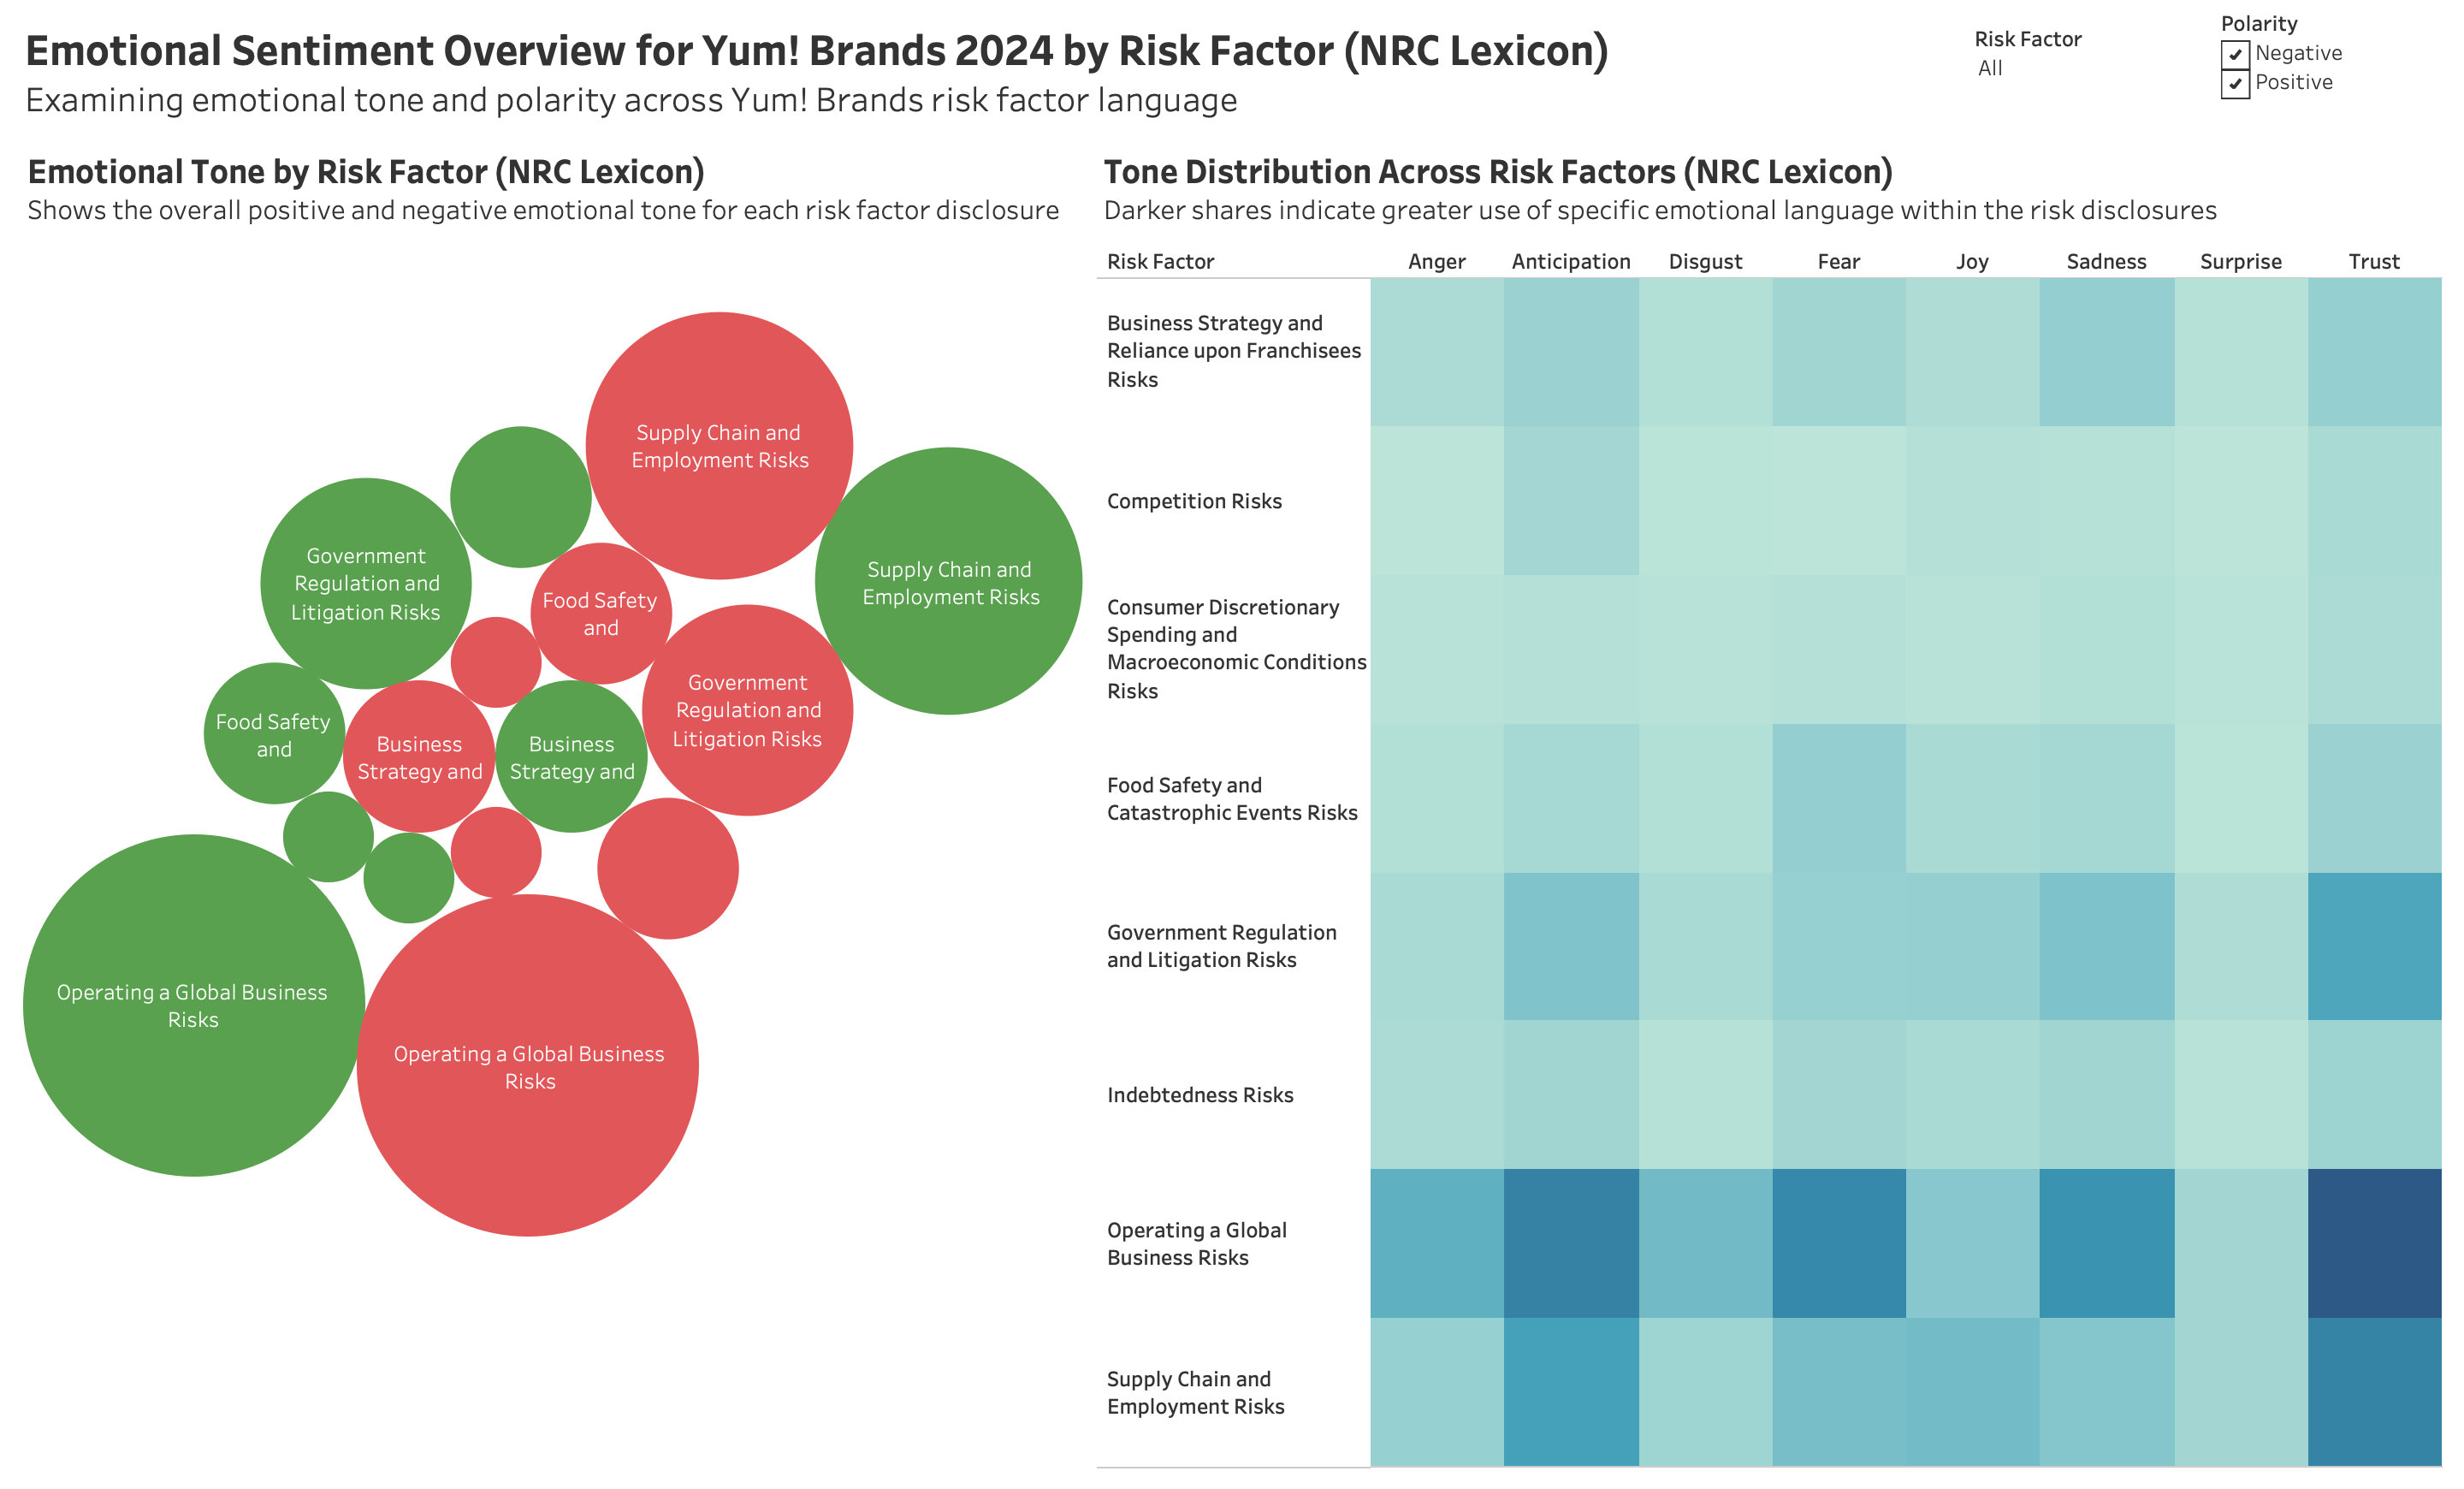

What the dashboard file says about the page in this screenshot:
{"tool":"tableau","page":{"name":"NRC Dashboard","canvas":[1000,1000],"units":"permille","ordinal":1},"visuals":[{"type":"filter","title":"NRC 1","param":"[federated.03wgyiv1atsuz61ej4ymm1wo0w0e].[none:Polarity:nk]","box":[901.1,5.1,83.7,85]},{"type":"title","box":[4.7,8.1,990.6,68.8]},{"type":"filter","title":"NRC 1","param":"[federated.03wgyiv1atsuz61ej4ymm1wo0w0e].[none:Risk_Factor:nk]","box":[801.6,15.2,79,44.5]},{"type":"worksheet","title":"NRC 1","mark":"Circle","box":[4.7,76.9,430.1,914.9]},{"type":"worksheet","title":"NRC 2","mark":"Automatic","rows":["Risk_Factor"],"cols":["Sentiment_Polarity"],"box":[434.8,76.9,560.5,914.9]}]}

Visuals, with their boxes on the dashboard's canvas, which has no fixed pixel size, in thousandths of its width and height (x1, y1, x2, y2). These are canvas units, not pixel positions in the 2464x1489 screenshot, which may show the page scaled, cropped or inside an application window:
"NRC 1" filter: <bbox>901, 5, 985, 90</bbox>
title: <bbox>5, 8, 995, 77</bbox>
"NRC 1" filter: <bbox>802, 15, 881, 60</bbox>
"NRC 1" worksheet (Circle marks): <bbox>5, 77, 435, 992</bbox>
"NRC 2" worksheet: <bbox>435, 77, 995, 992</bbox>
